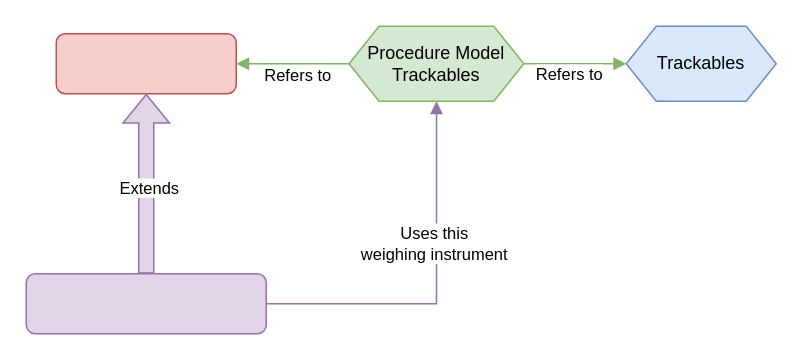
Some shapes in this 803 by 360 pixel diagram are drawn without their labels. Each missing label, with the centre of its shape:
Procedure Models: (145,63)
Weighing Procedure Models: (145,303)
